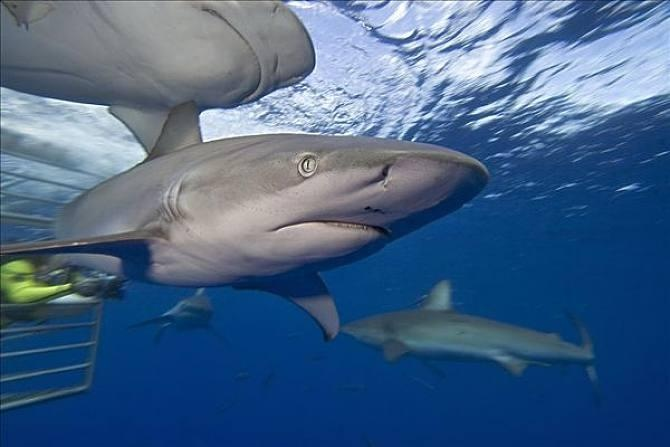fish: (24, 116, 488, 339), (335, 277, 605, 386)
